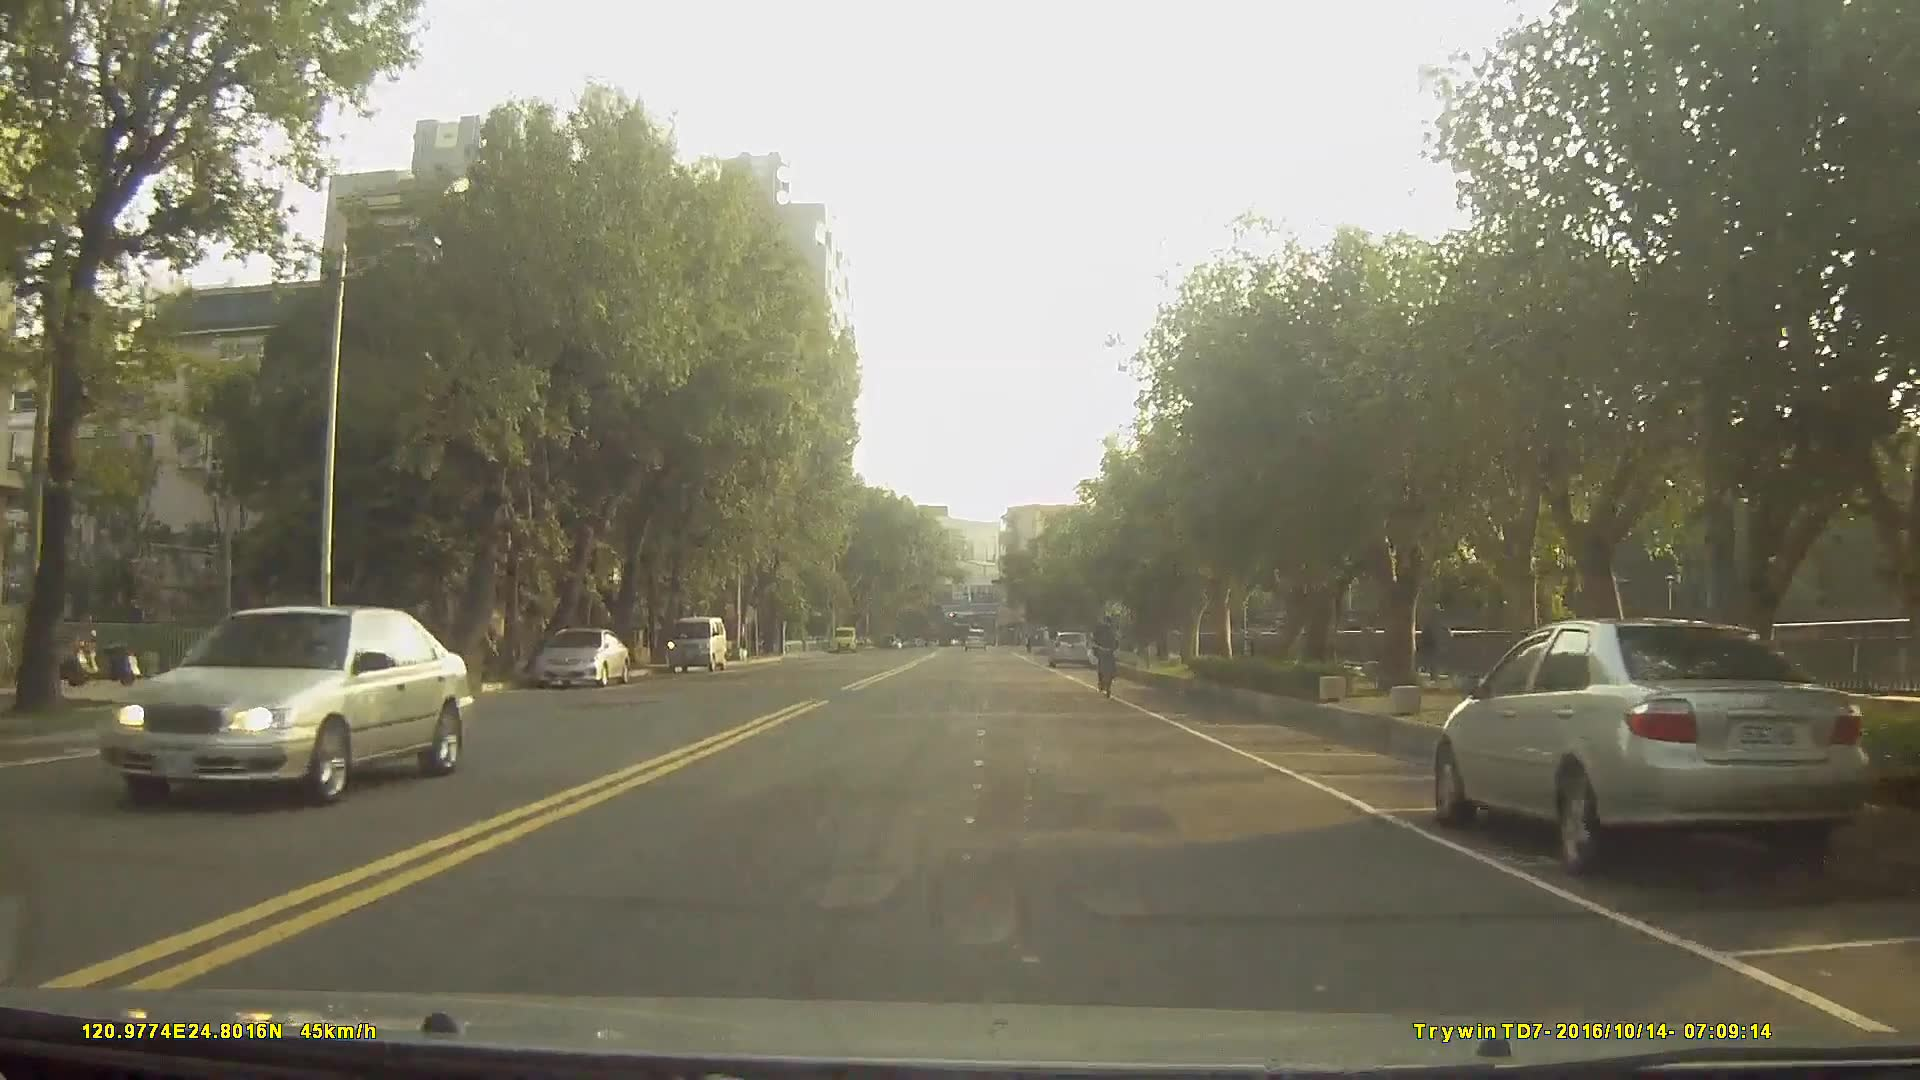rider: (1093, 615, 1122, 700)
vehicle: (1431, 615, 1868, 881), (94, 602, 475, 808), (532, 627, 629, 692), (663, 615, 727, 676), (1046, 630, 1091, 670), (962, 623, 987, 649)
